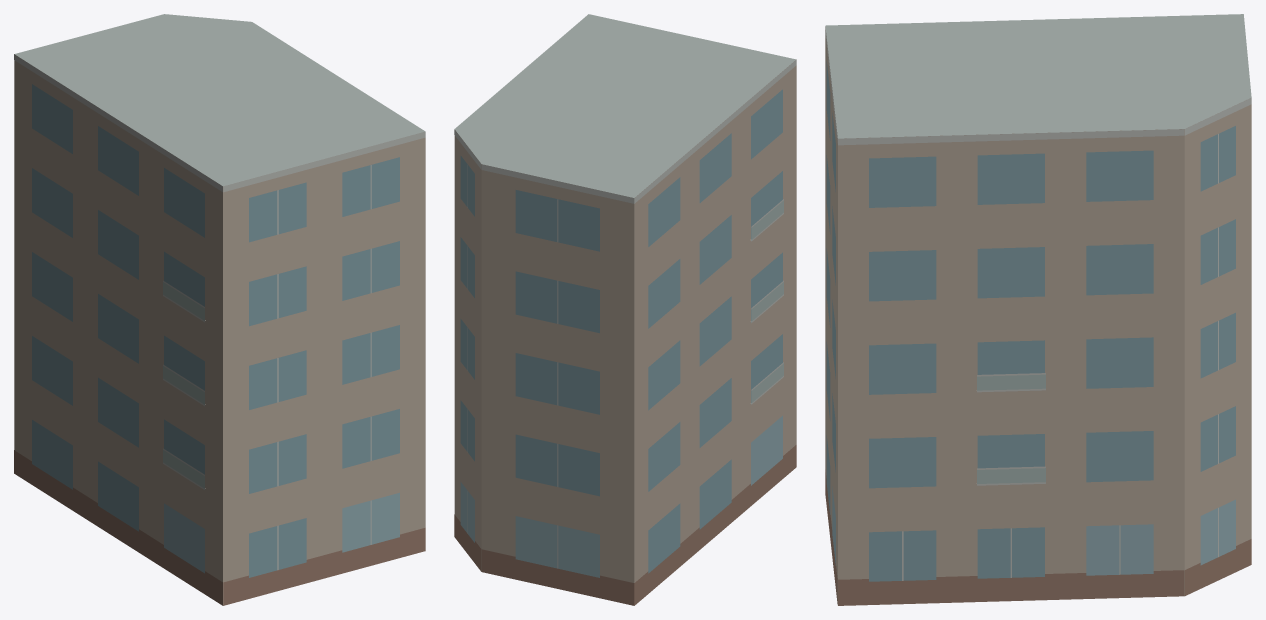
File: survey-upis-32870507.glb
The picture shows the model from 3 angles, left to right: view 1: azimuth 30°, elevation 25°; view 2: azimuth 150°, elevation 25°; view 3: azimuth 270°, elevation 25°; orthographic projection. The views are drawn at different scales.
Visible parts, largest first — view 1: survey-upis-32870507.tmp; view 2: survey-upis-32870507.tmp; view 3: survey-upis-32870507.tmp.
Part boxes in pixels (x1,y1,x2,y2): survey-upis-32870507.tmp: (14,14,425,605); survey-upis-32870507.tmp: (454,14,796,605); survey-upis-32870507.tmp: (825,14,1251,605).
Size of the model in its own units: 9.76 by 17.05 by 14.11.
